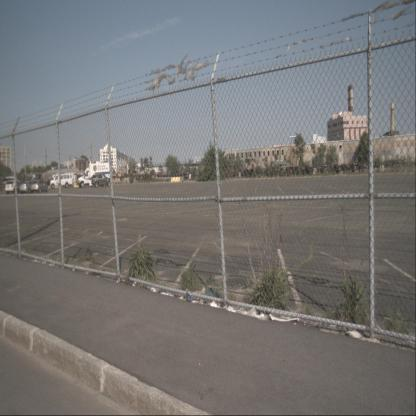vehicle-bus-rigid: (22, 174, 42, 189)
vehicle-car: (50, 174, 73, 189), (92, 174, 111, 188), (31, 179, 48, 193), (5, 180, 22, 194), (19, 181, 36, 194), (46, 177, 59, 187)
vehicle-truck: (77, 162, 111, 188)
